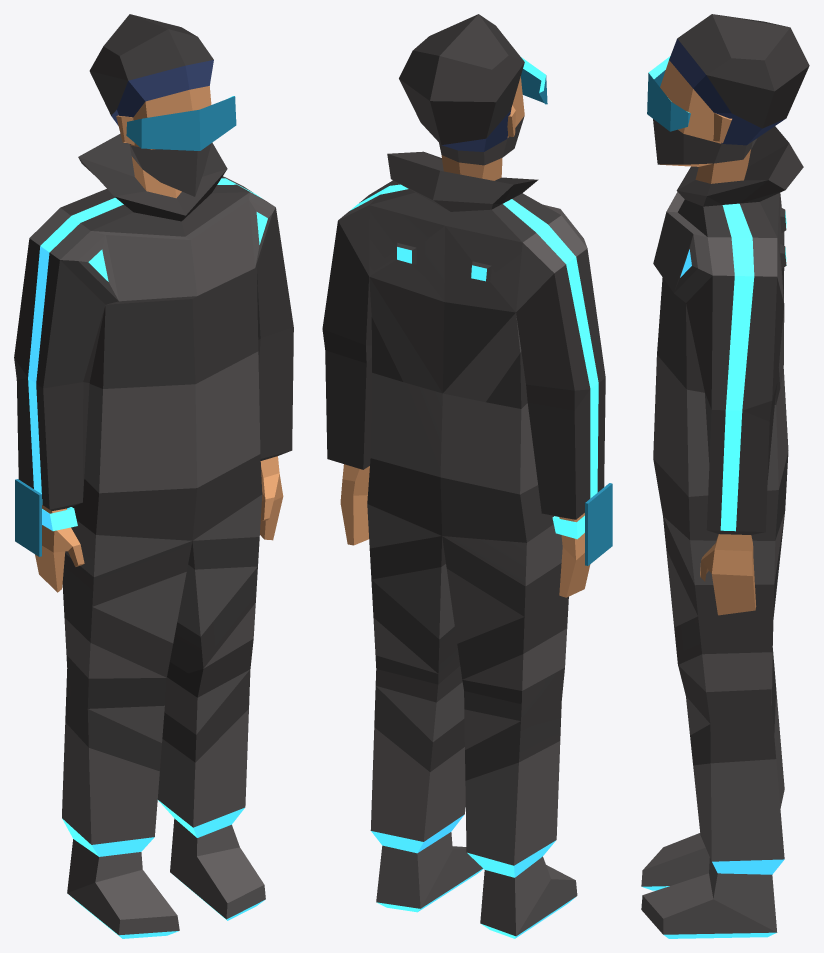
File: people_man-scifi-goggles.fbx
3 views of the same model, side by side, from view 1: azimuth 30°, elevation 25°; view 2: azimuth 150°, elevation 25°; view 3: azimuth 270°, elevation 25° (orthographic).
Parts seen in each view (by area): view 1: people_man_scifi_goggles; view 2: people_man_scifi_goggles; view 3: people_man_scifi_goggles.
Part boxes in pixels (x1=…): people_man_scifi_goggles: x1=14, y1=14, x2=293, y2=938; people_man_scifi_goggles: x1=322, y1=14, x2=612, y2=938; people_man_scifi_goggles: x1=641, y1=14, x2=809, y2=938.
Size of the model in its own units: 61.03 by 200 by 34.19.
